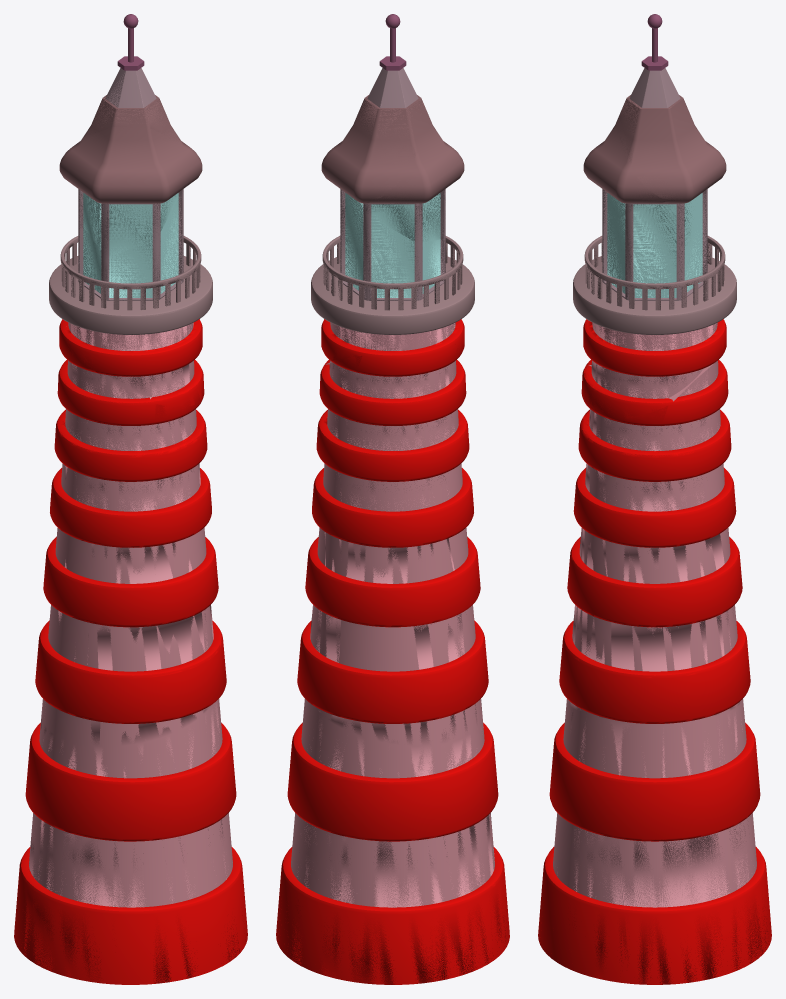
File: kule.fbx
3 views of the same model, side by side, from view 1: azimuth 30°, elevation 25°; view 2: azimuth 150°, elevation 25°; view 3: azimuth 270°, elevation 25° (orthographic).
Visible parts, largest first — view 1: saglam, Cylinder_cell.003, Cylinder_cell.004, Cylinder_cell.001, Cylinder_cell.002, kirik, Cylinder_cell.007, Cylinder_cell, Cylinder_cell.008; view 2: saglam, Cylinder_cell.003, Cylinder_cell.004, kirik, Cylinder_cell.001, Cylinder_cell, Cylinder_cell.002, Cylinder_cell.008, Cylinder_cell.007; view 3: saglam, Cylinder_cell.003, Cylinder_cell.004, Cylinder_cell.002, kirik, Cylinder_cell.001, Cylinder_cell, Cylinder_cell.008, Cylinder_cell.007.
Part boxes in pixels (<box>): saglam: <box>14,14,247,984</box>; Cylinder_cell.003: <box>39,323,225,746</box>; Cylinder_cell.004: <box>17,700,246,983</box>; Cylinder_cell.001: <box>59,127,189,260</box>; Cylinder_cell.002: <box>65,323,203,407</box>; kirik: <box>78,198,183,300</box>; Cylinder_cell.007: <box>49,291,209,334</box>; Cylinder_cell: <box>83,73,181,141</box>; Cylinder_cell.008: <box>60,242,200,309</box>; saglam: <box>276,14,509,984</box>; Cylinder_cell.003: <box>297,345,487,746</box>; Cylinder_cell.004: <box>276,706,506,984</box>; kirik: <box>340,190,445,300</box>; Cylinder_cell.001: <box>360,124,464,244</box>; Cylinder_cell: <box>321,72,427,203</box>; Cylinder_cell.002: <box>323,323,463,364</box>; Cylinder_cell.008: <box>323,242,463,310</box>; Cylinder_cell.007: <box>312,282,474,334</box>; saglam: <box>538,14,771,984</box>; Cylinder_cell.003: <box>559,343,745,723</box>; Cylinder_cell.004: <box>544,707,768,984</box>; Cylinder_cell.002: <box>582,320,726,416</box>; kirik: <box>602,196,707,300</box>; Cylinder_cell.001: <box>584,117,707,223</box>; Cylinder_cell: <box>619,93,720,200</box>; Cylinder_cell.008: <box>584,243,724,310</box>; Cylinder_cell.007: <box>573,282,733,334</box>.
Size of the model in its own units: 681 by 2961 by 681.
